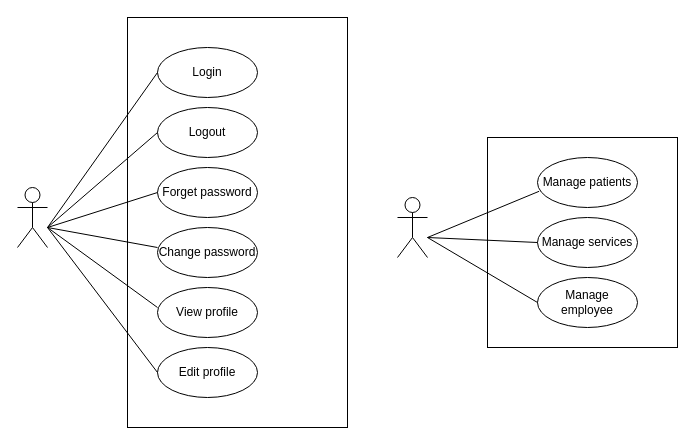
Image size: 695x445. Some labels were removed from this diagram. The shapes that lost their labels are listed below. From the top down, each one's centre as x and y in pixels, then its label:
At point 32,217: "Users".
At point 412,227: "Admin".
